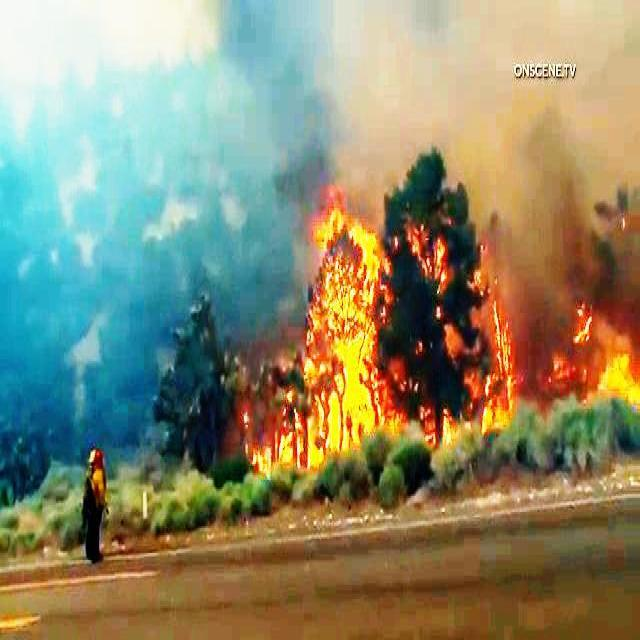Fire: (309, 209, 375, 452)
